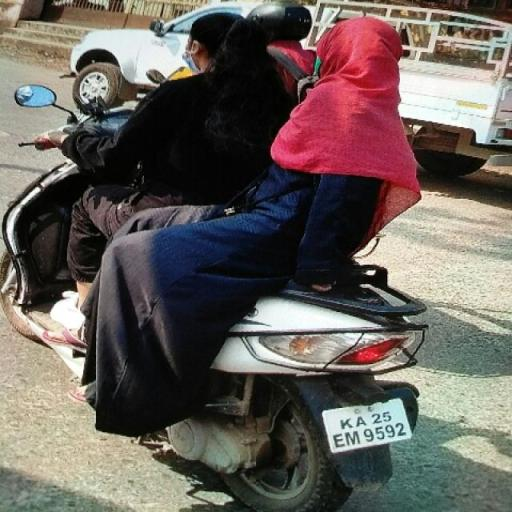bike: (3, 6, 441, 512)
numberplate: (319, 396, 414, 454)
withouthelmet: (326, 18, 402, 86), (188, 10, 248, 70)
